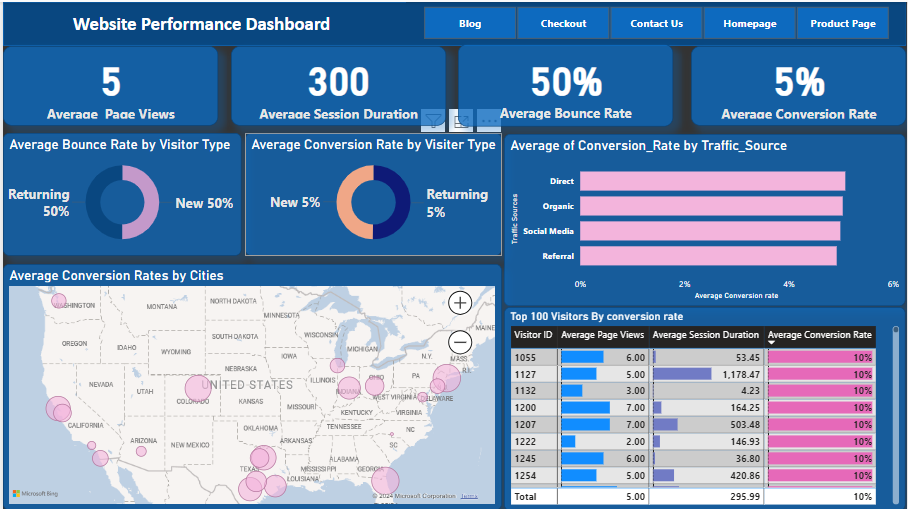

What the dashboard file says about the page in this screenshot:
{"tool":"powerbi","page":{"name":"Page 1","canvas":[1280,720],"ordinal":0},"visuals":[{"type":"shape","box":[0,0,1280.2,61.9],"z":0},{"type":"card","fields":{"Values":["Avg(website_performance_analytics.Page_Views)"]},"box":[0,61.4,305.3,113.3],"z":0,"group":"g1"},{"type":"card","fields":{"Values":["Avg(website_performance_analytics.Session_Duration)"]},"box":[322.6,61.4,305.3,113.3],"z":1000,"group":"g1"},{"type":"textbox","box":[11.5,10.1,540,43.2],"z":1000},{"type":"card","fields":{"Values":["Avg(website_performance_analytics.Bounce_Rate)"]},"box":[645.1,59,305.3,116.6],"z":2000,"group":"g1"},{"type":"card","fields":{"Values":["Avg(website_performance_analytics.Conversion_Rate)"]},"box":[974.7,61.4,305.3,113.3],"z":3000,"group":"g1"},{"type":"donutChart","title":"Average Bounce Rate by Visitor Type","fields":{"Y":["Avg(website_performance_analytics.Bounce_Rate)"],"Category":["website_performance_analytics.Visitor_Type"]},"box":[0,185.8,338.4,174.2],"z":3000},{"type":"donutChart","title":"Average Conversion Rate by Visiter Type","fields":{"Category":["website_performance_analytics.Visitor_Type"],"Y":["Avg(website_performance_analytics.Conversion_Rate)"]},"box":[342.7,185.8,364.3,174.2],"z":4000},{"type":"barChart","fields":{"Y":["Avg(website_performance_analytics.Conversion_Rate)"],"Category":["website_performance_analytics.Traffic_Source"]},"box":[710.6,186.5,569.4,243.6],"z":5000},{"type":"map","title":"Average Conversion Rates by Cities","fields":{"Size":["Avg(website_performance_analytics.Conversion_Rate)"],"Category":["website_performance_analytics.Location"]},"box":[0,371.2,707.2,349.4],"z":6000},{"type":"slicer","fields":{"Values":["website_performance_analytics.Exit_Pages"]},"box":[571.7,0,708.5,59],"z":7000},{"type":"tableEx","title":"Top 100 Visitors By conversion rate","fields":{"Values":["website_performance_analytics.Visitor_ID","Avg(website_performance_analytics.Page_Views)","Avg(website_performance_analytics.Session_Duration)","Avg(website_performance_analytics.Conversion_Rate)"]},"box":[710.6,431.7,569.4,288.9],"z":8000},{"type":"group","id":"g1","title":"Group 1","box":[0,59,1280,116.6],"z":8001}]}

Visuals, with their boxes in screenshot pixels (x1, y1, x2, y2), scaled from the page's 1280x720 canvas onto the 908x509 screenshot:
shape: {"left": 0, "top": 0, "right": 907, "bottom": 44}
card - Avg(website_performance_analytics.Page_Views): {"left": 0, "top": 43, "right": 217, "bottom": 124}
card - Avg(website_performance_analytics.Session_Duration): {"left": 229, "top": 43, "right": 445, "bottom": 124}
textbox: {"left": 8, "top": 7, "right": 391, "bottom": 38}
card - Avg(website_performance_analytics.Bounce_Rate): {"left": 458, "top": 42, "right": 674, "bottom": 124}
card - Avg(website_performance_analytics.Conversion_Rate): {"left": 691, "top": 43, "right": 907, "bottom": 124}
"Average Bounce Rate by Visitor Type" donutChart: {"left": 0, "top": 131, "right": 240, "bottom": 255}
"Average Conversion Rate by Visiter Type" donutChart: {"left": 243, "top": 131, "right": 502, "bottom": 255}
barChart - Avg(website_performance_analytics.Conversion_Rate) x website_performance_analytics.Traffic_Source: {"left": 504, "top": 132, "right": 907, "bottom": 304}
"Average Conversion Rates by Cities" map: {"left": 0, "top": 262, "right": 502, "bottom": 508}
slicer - website_performance_analytics.Exit_Pages: {"left": 406, "top": 0, "right": 907, "bottom": 42}
"Top 100 Visitors By conversion rate" tableEx: {"left": 504, "top": 305, "right": 907, "bottom": 508}
"Group 1" group: {"left": 0, "top": 42, "right": 907, "bottom": 124}
